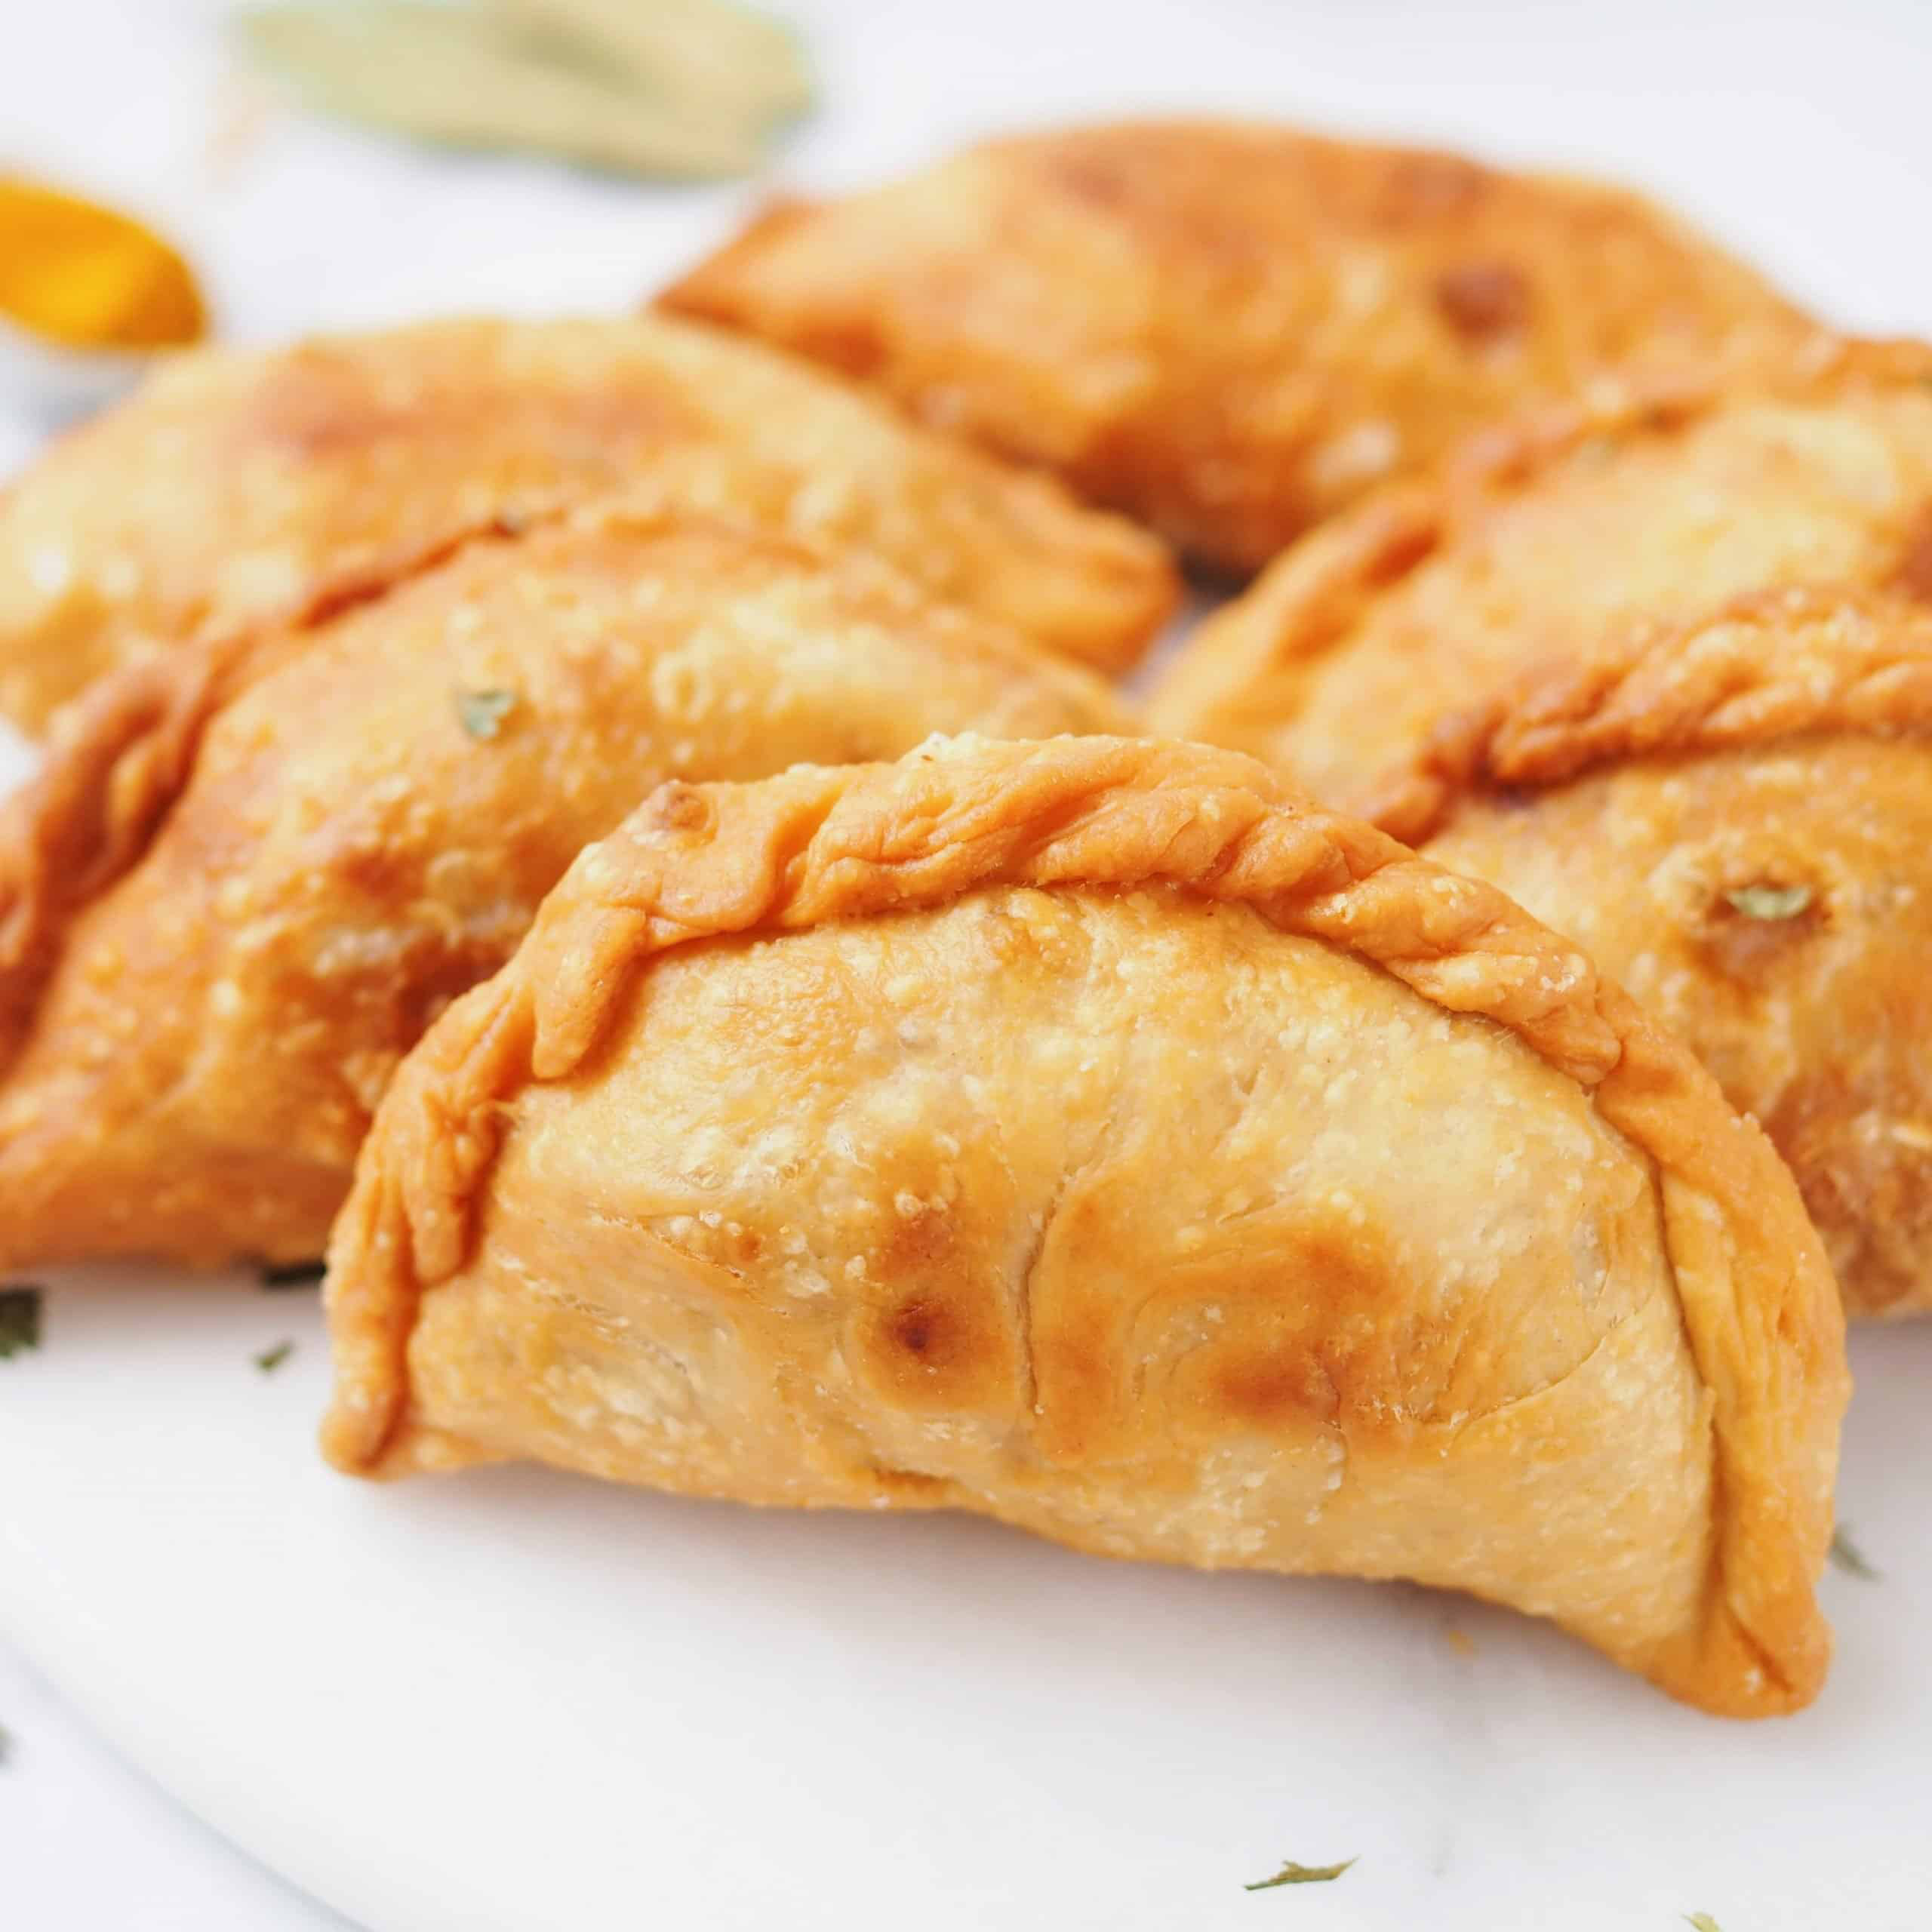Curry Puff: (331, 734, 1829, 1753), (28, 456, 1230, 1249), (23, 278, 1210, 725), (663, 81, 1916, 494), (1355, 580, 1932, 1297)
